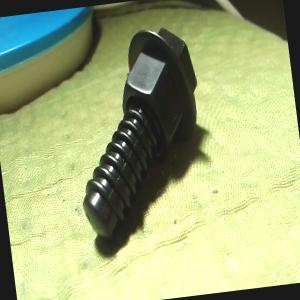parafuso: (62, 23, 215, 241)
